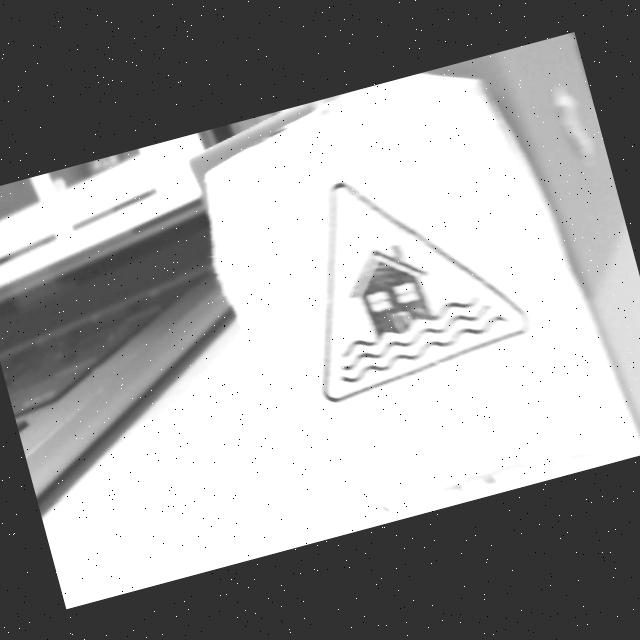Tsunami: (321, 182, 528, 402)
